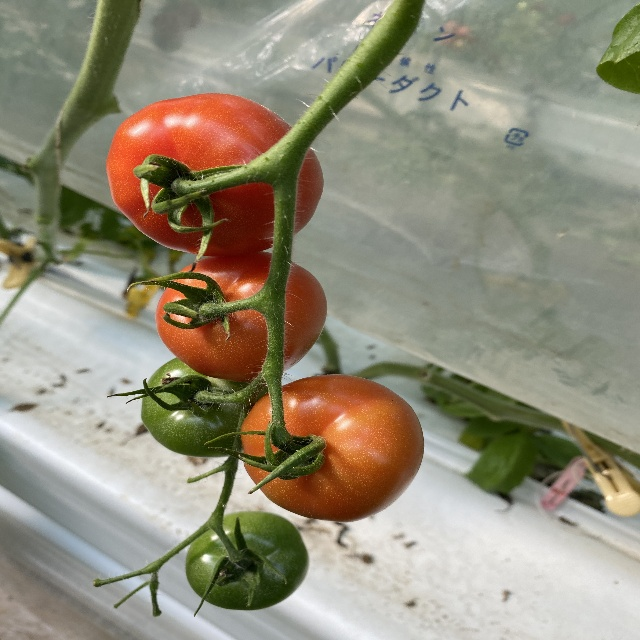l_fully_ripened: (106, 92, 324, 257), (157, 251, 328, 382)
l_green: (142, 357, 274, 458), (185, 510, 310, 611)
l_half_ripened: (240, 374, 424, 524)
